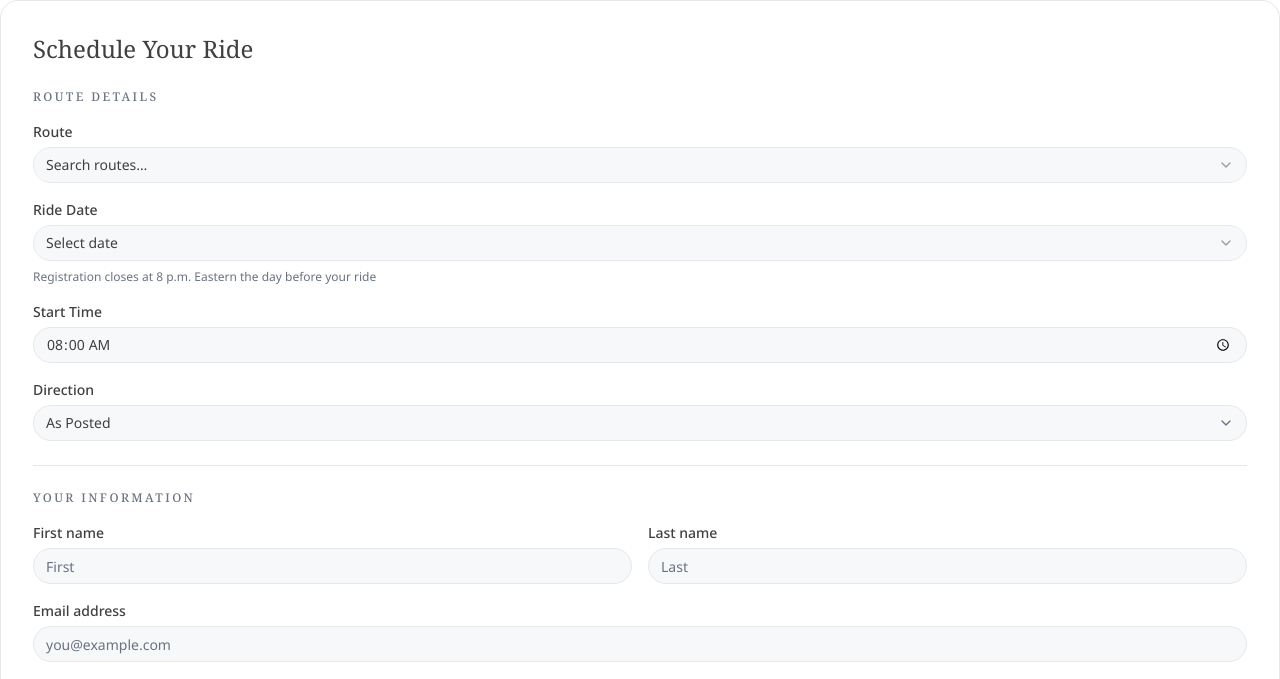
Test: PermanentRegistrationForm › start location field › names the posted start from the route's start control, above the button
Click the dropdown labelled "route": (97, 164) top-left (33, 147), bottom-right (1247, 183)
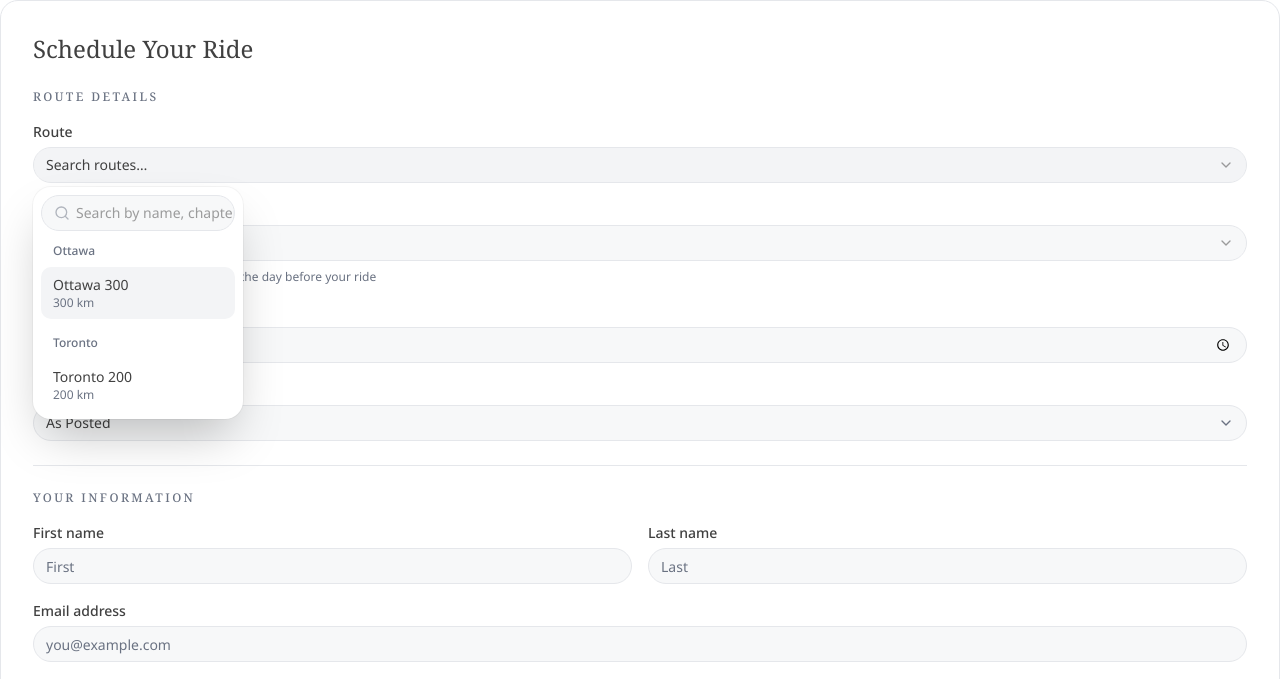
Click the option "Toronto 200 200 km": (93, 385) top-left (53, 367), bottom-right (132, 403)
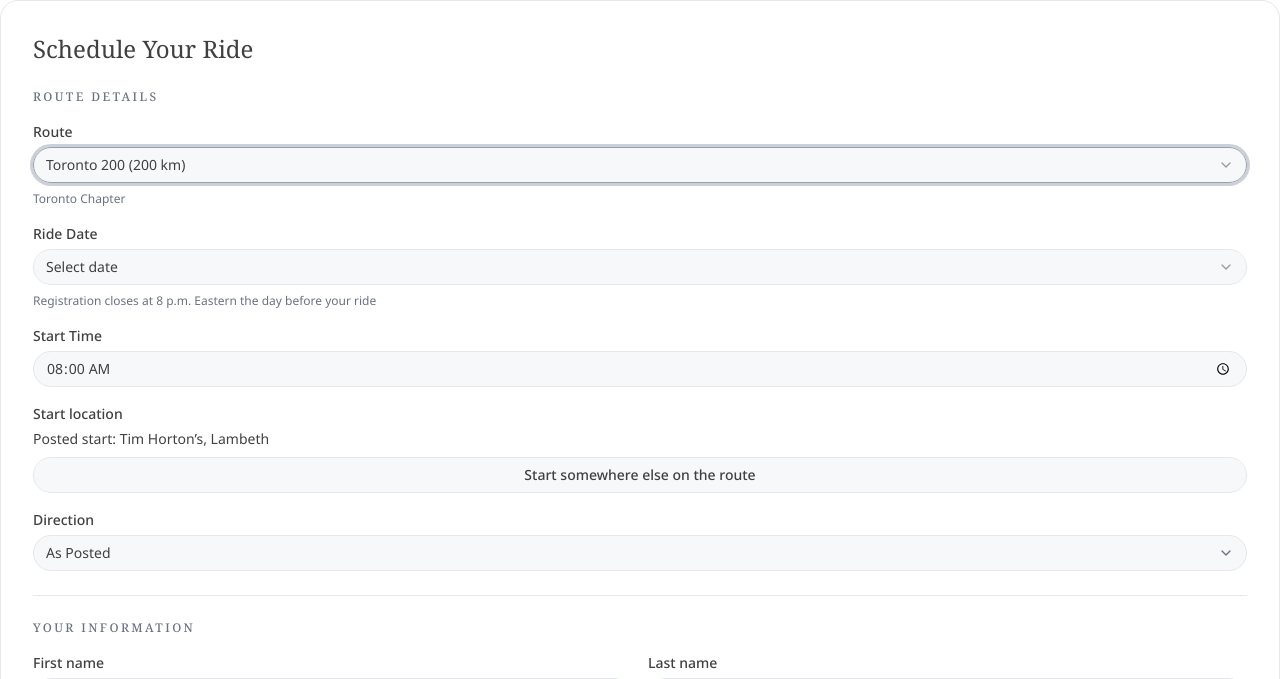
Now the text "Posted start: Tim Horton’s, Lambeth" is shown, box top-left (33, 429), bottom-right (269, 448)
